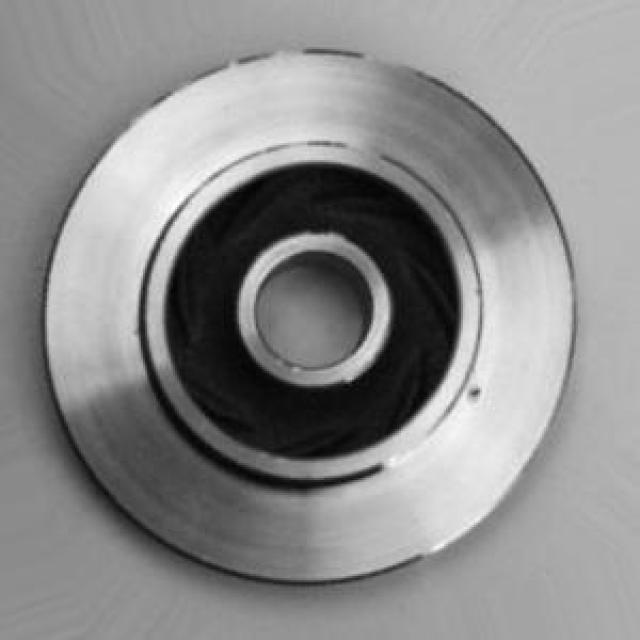Defect: (466, 379, 487, 408)
